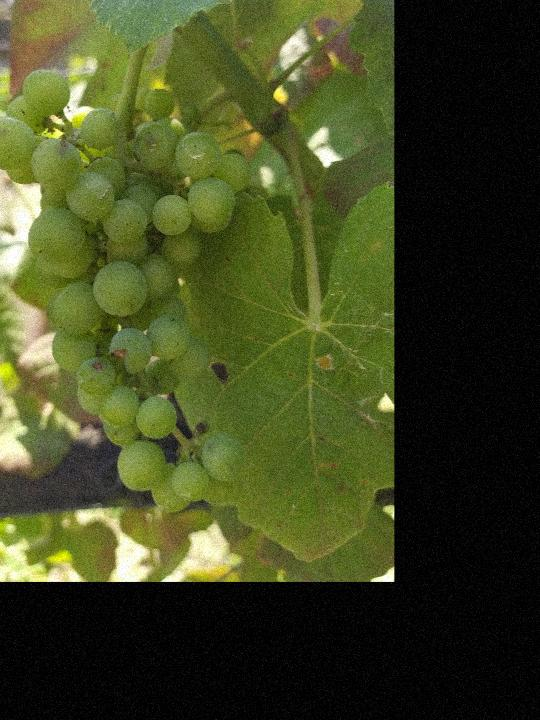grape: (0, 67, 255, 513)
